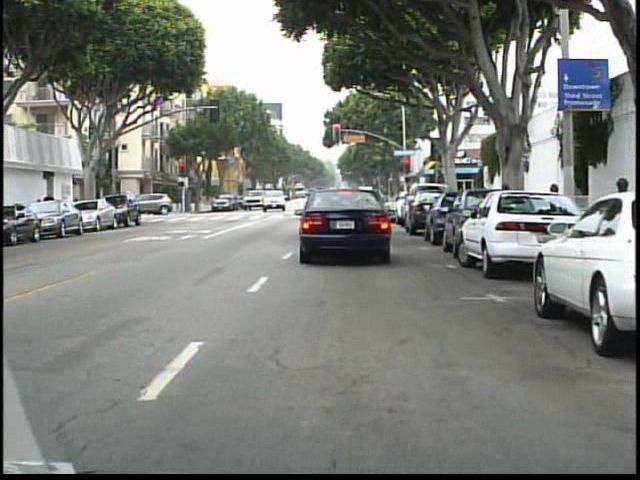person: (42, 188, 58, 227), (141, 190, 156, 218)
